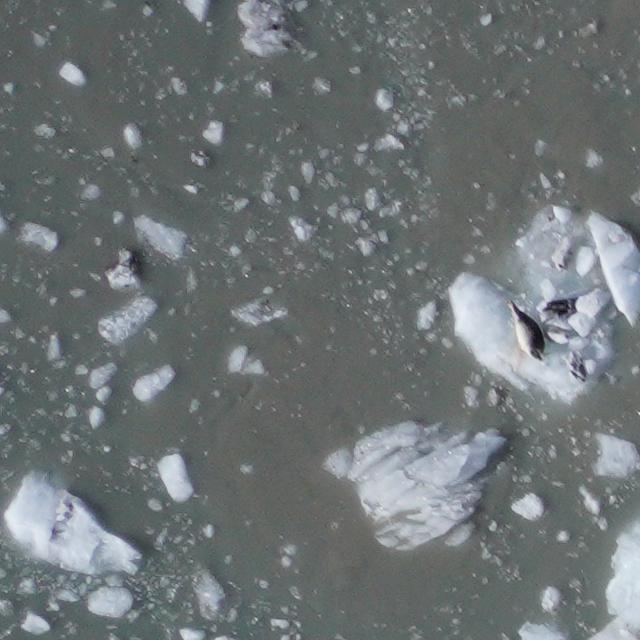seal: (503, 293, 551, 367)
